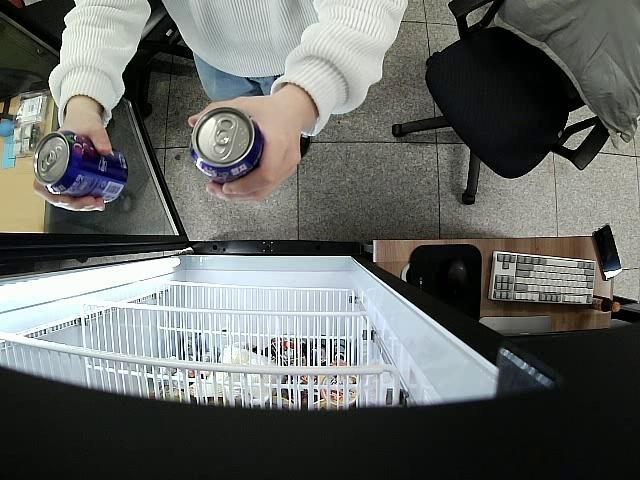14_welchsGrape: (34, 132, 128, 206), (188, 107, 263, 184)
